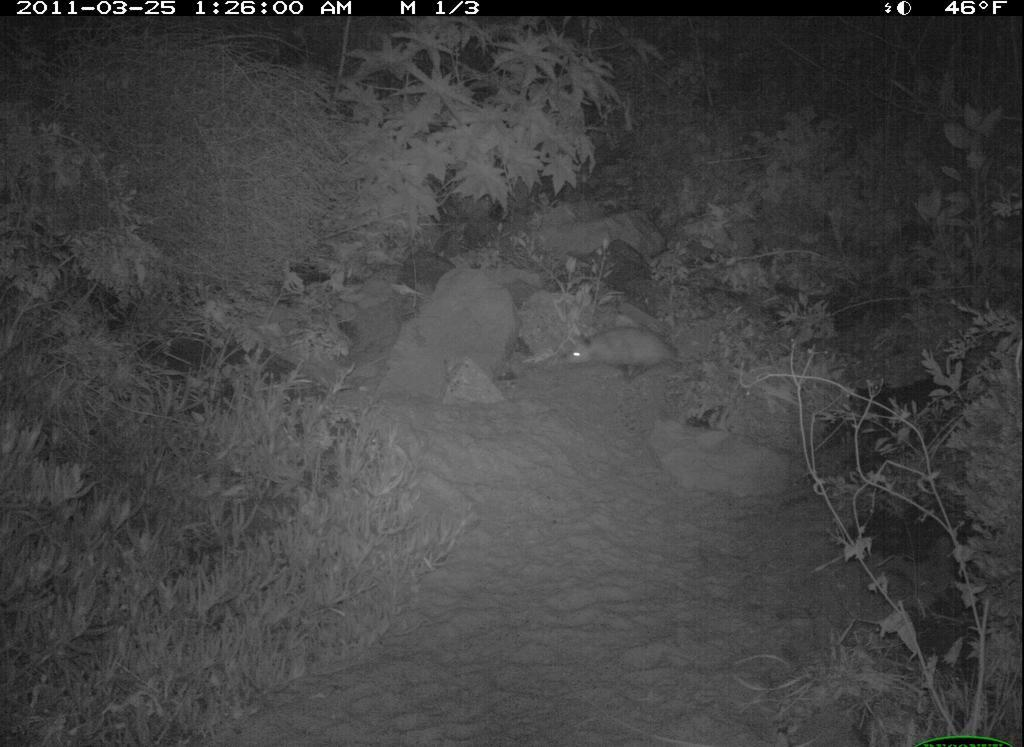opossum: (556, 319, 684, 388)
